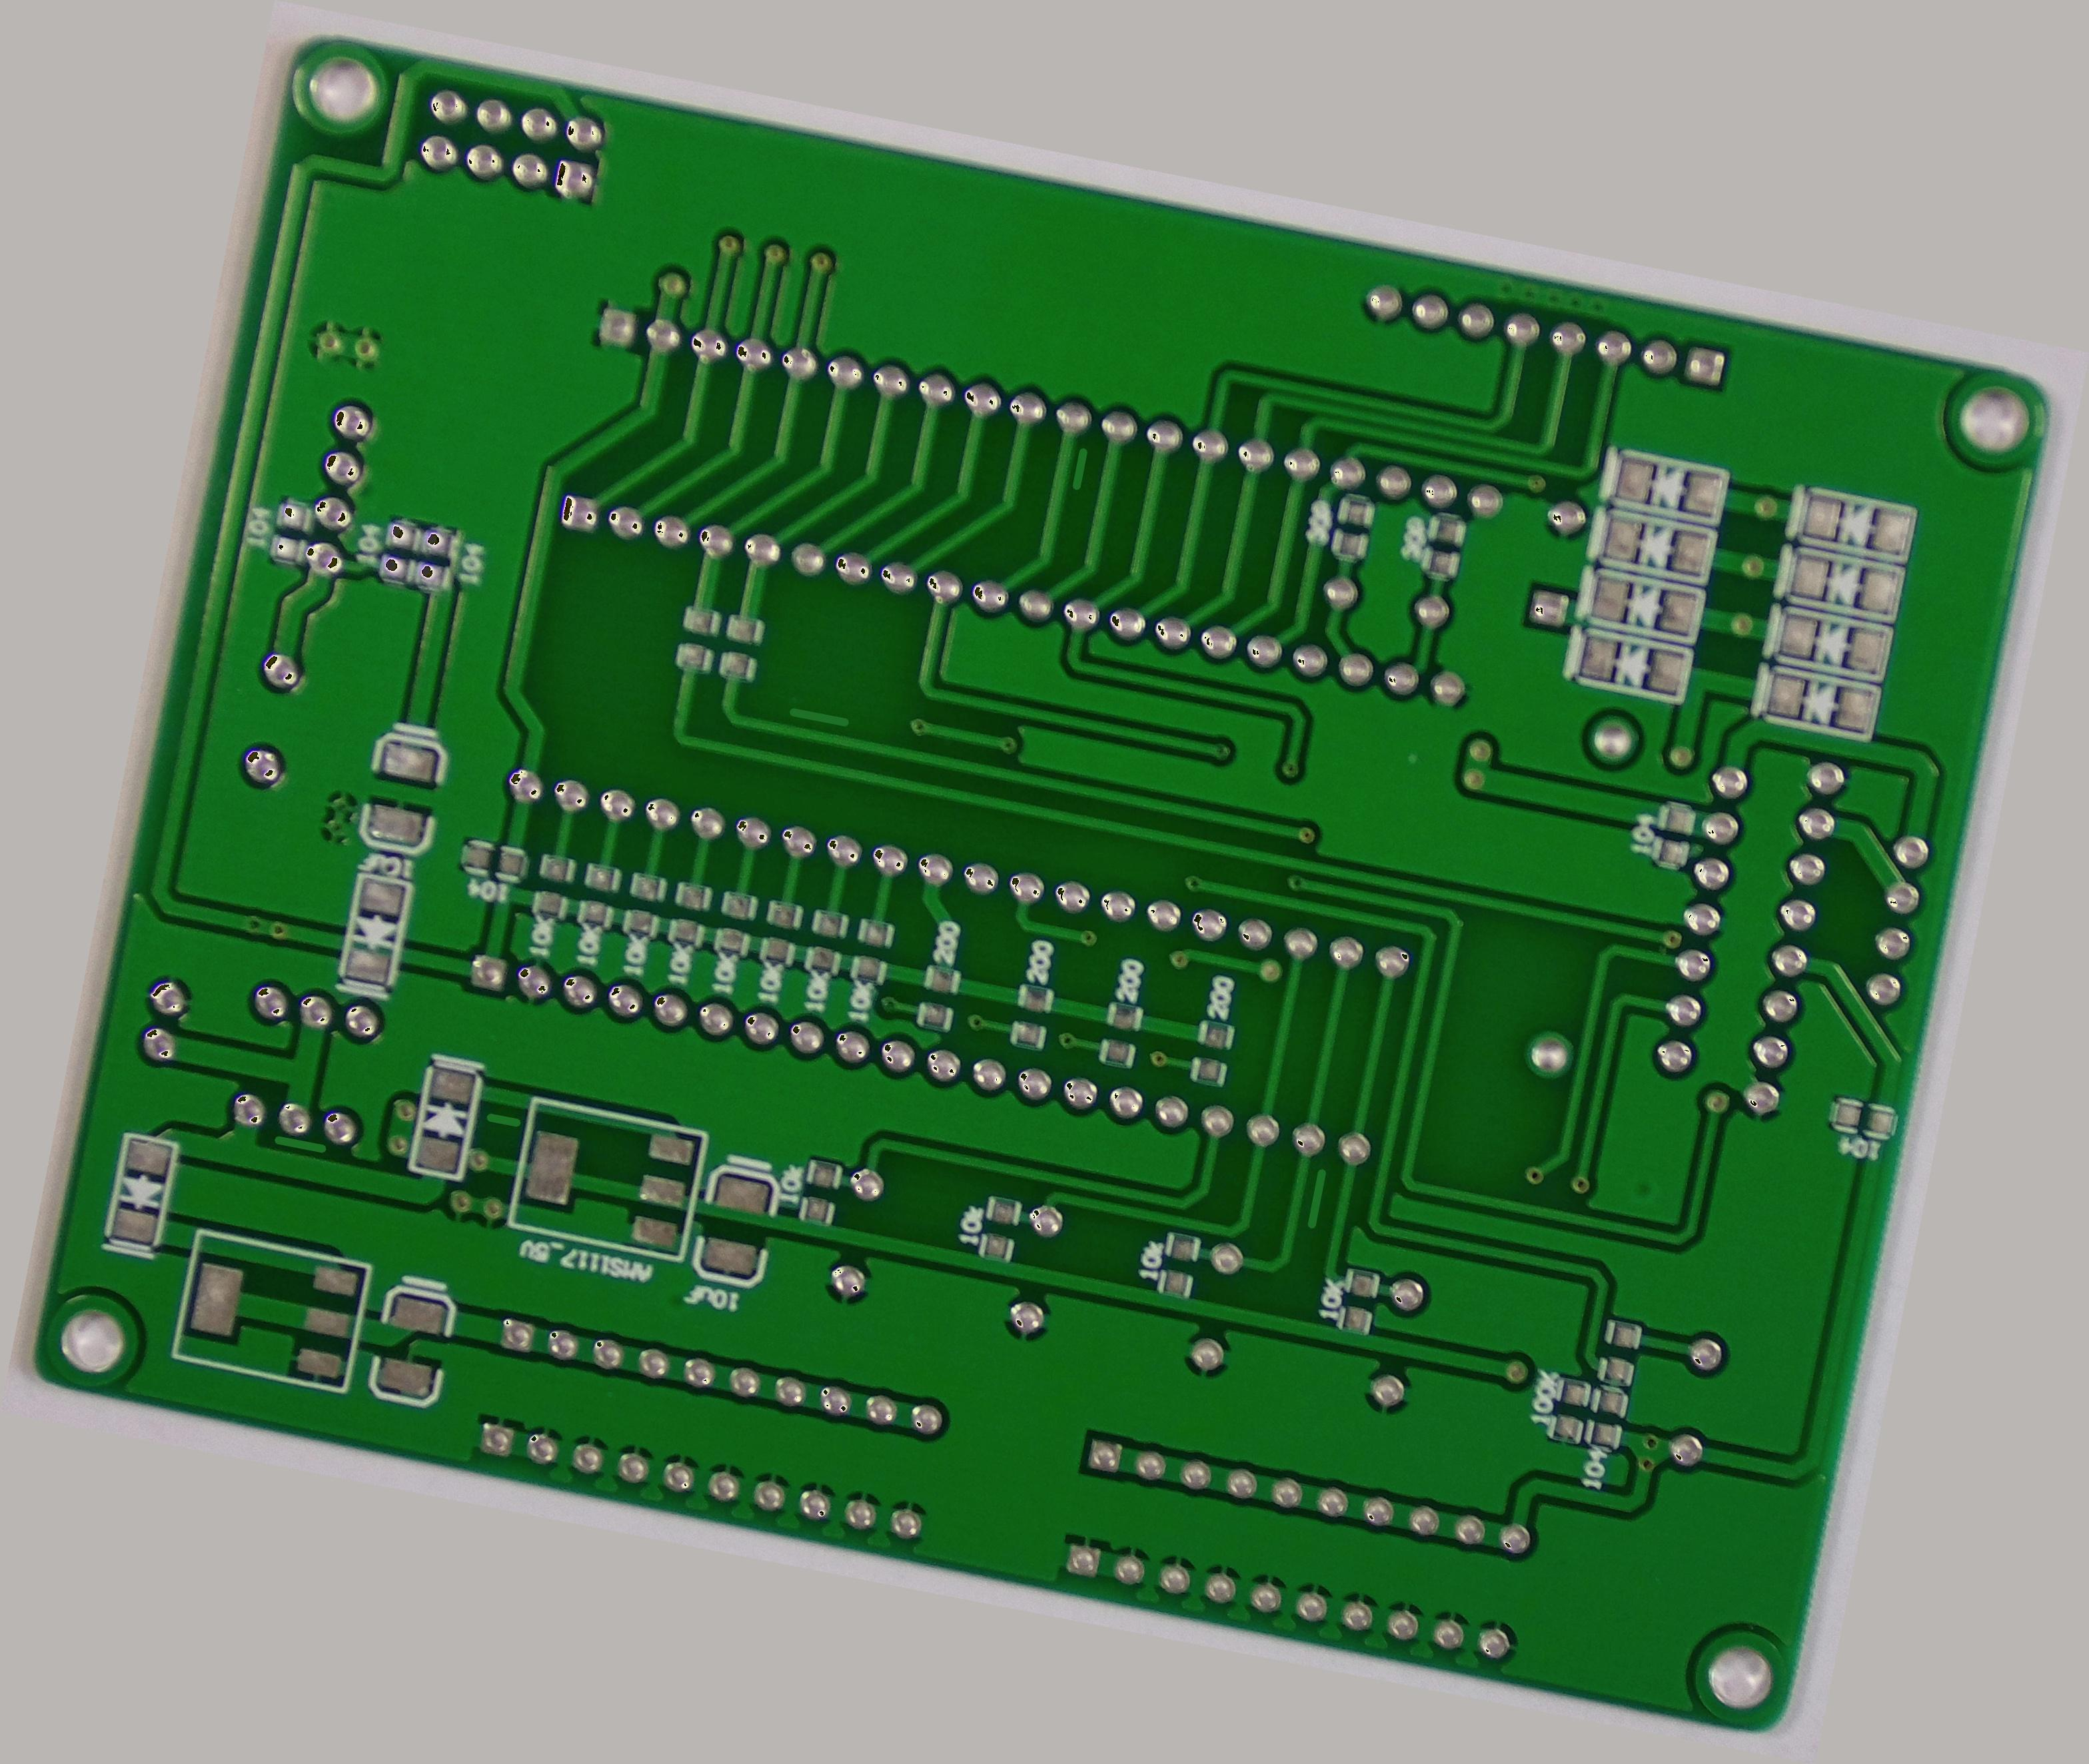spurious_copper: (776, 693, 863, 742), (1291, 1158, 1340, 1241), (264, 1120, 340, 1169), (1058, 436, 1103, 497), (478, 1095, 529, 1144)
